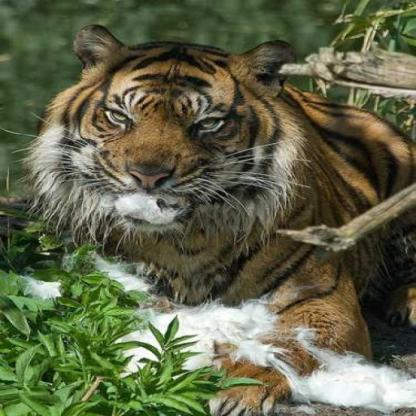Tiger: (36, 18, 410, 394)
